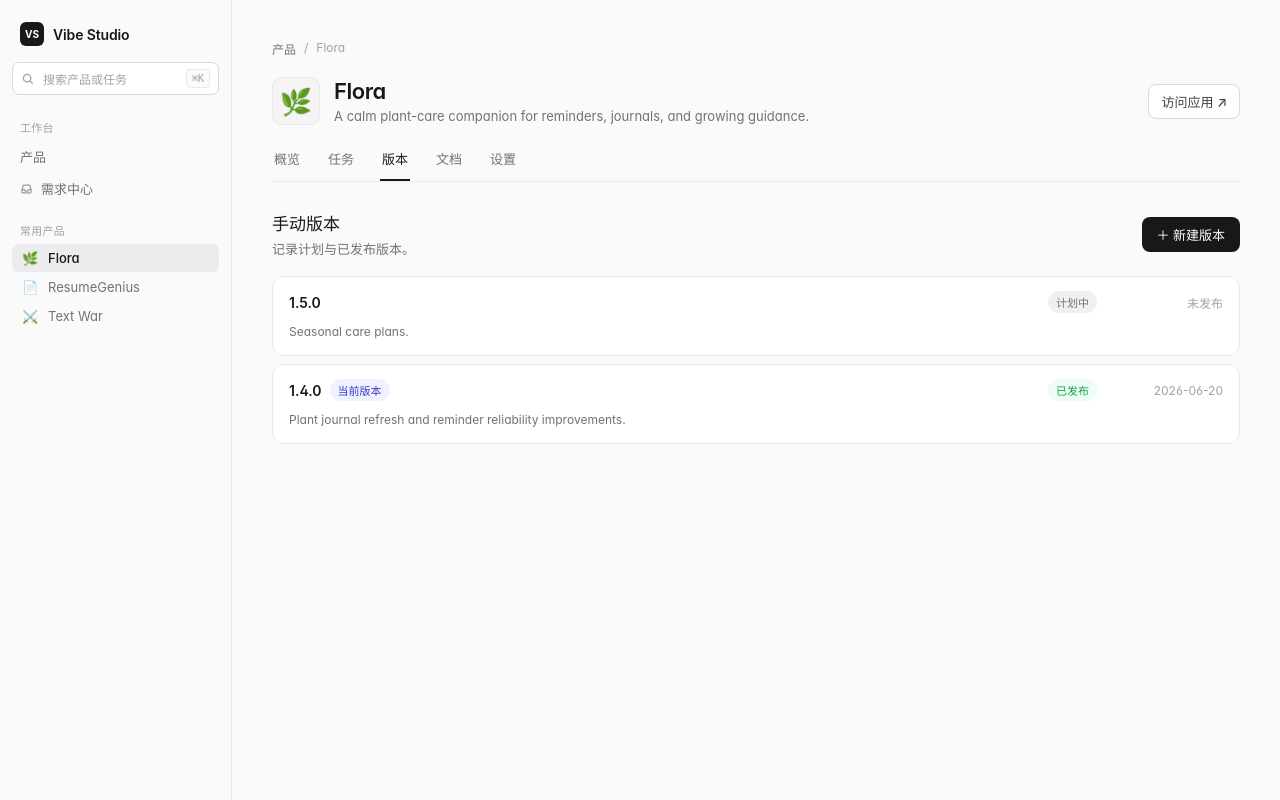
manual versions › reports repository failures without adding a version
Click the button "＋ 新建版本" at (1191, 234), box [1142,216,1240,252]
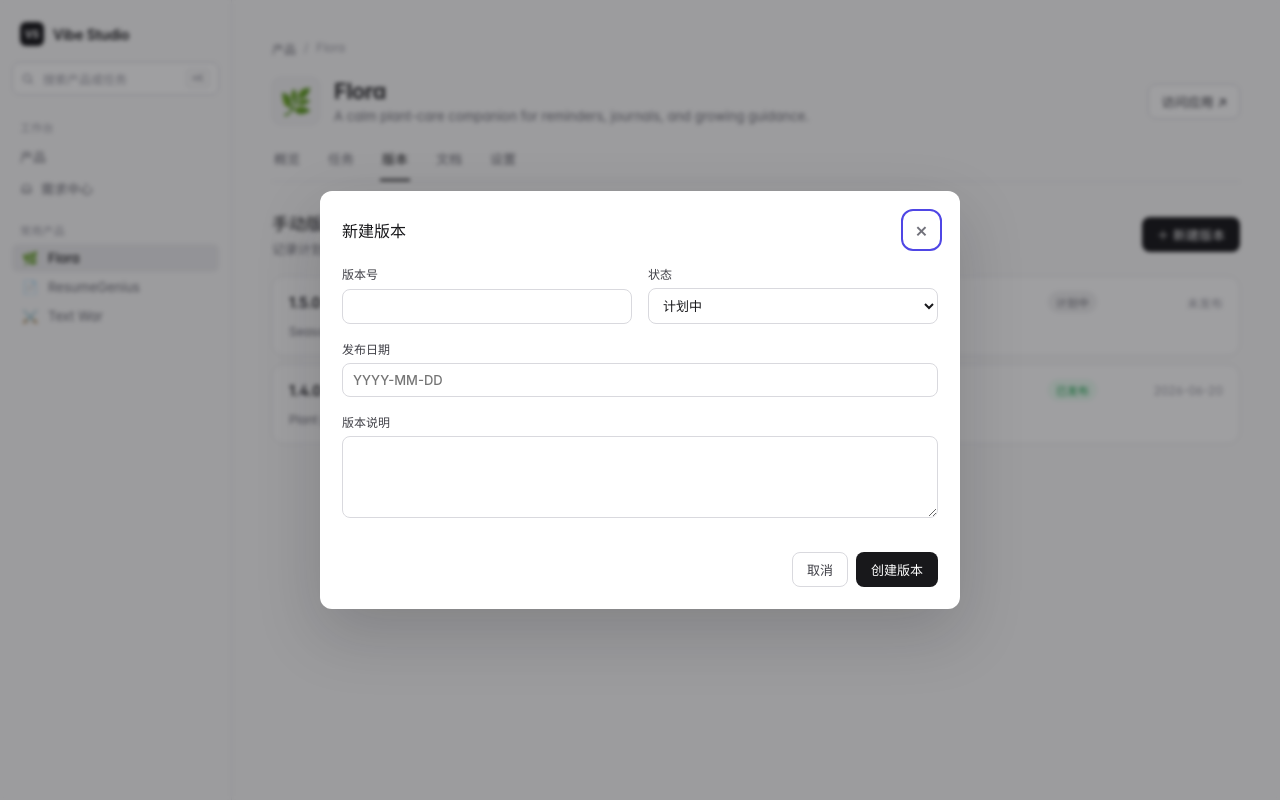
Type "failure" into the field labelled "版本号" at (487, 306), box [342,289,632,324]
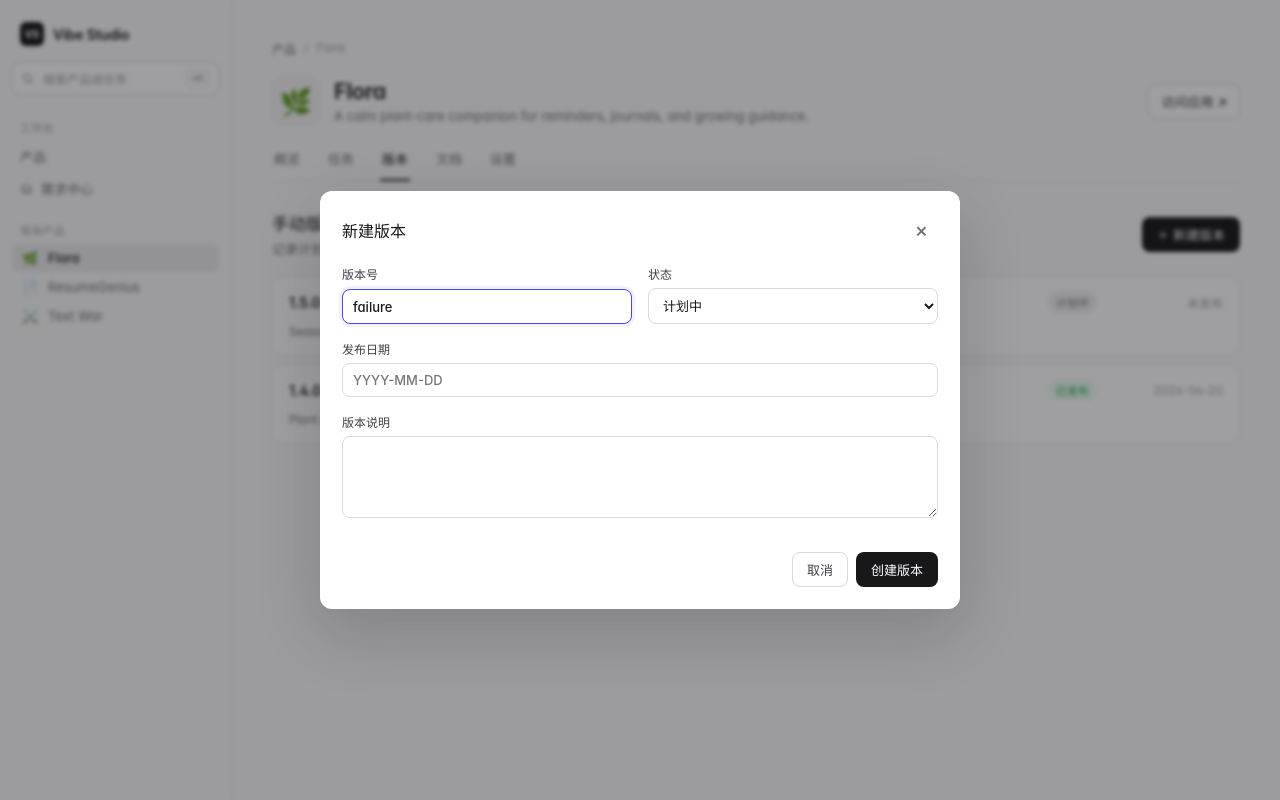
Click the button "创建版本" at (897, 570), box [856,552,938,587]
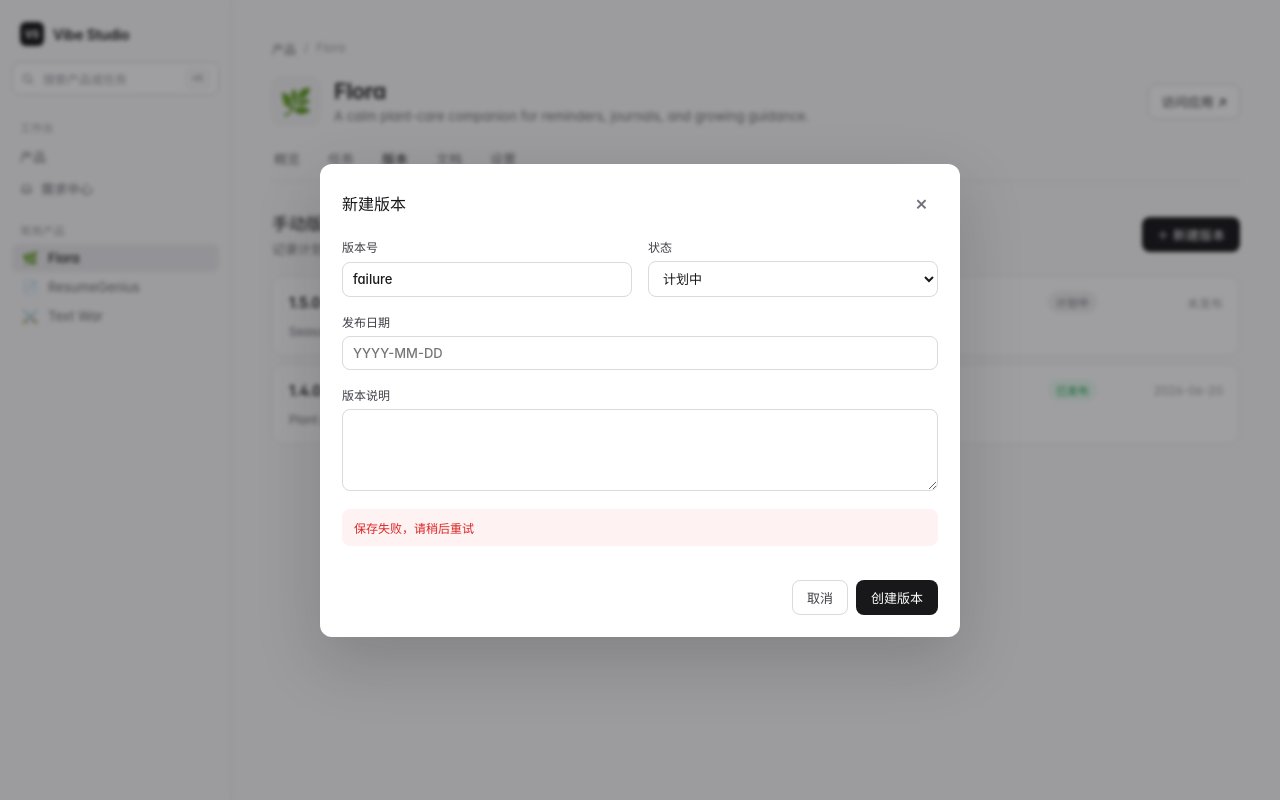
Check: the message reads "保存失败，请稍后重试", box [354,520,474,536]
